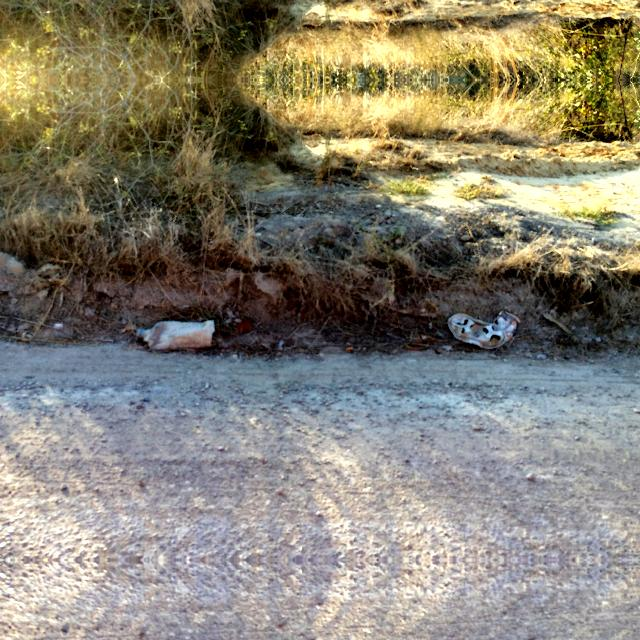Metal: (446, 308, 536, 352)
Plastic: (131, 318, 229, 352)
